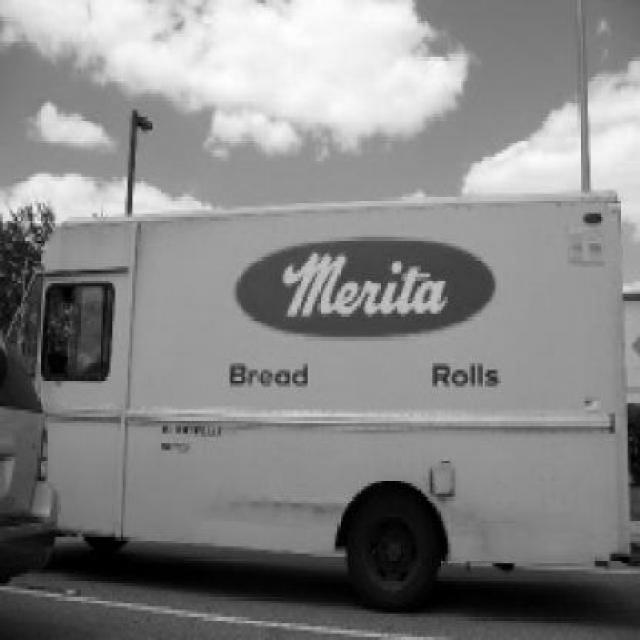Box Truck: (7, 192, 631, 612)
